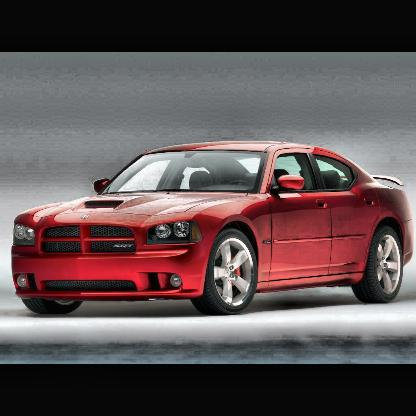Dodge Charger SRT-8 2009: (11, 141, 416, 318)
